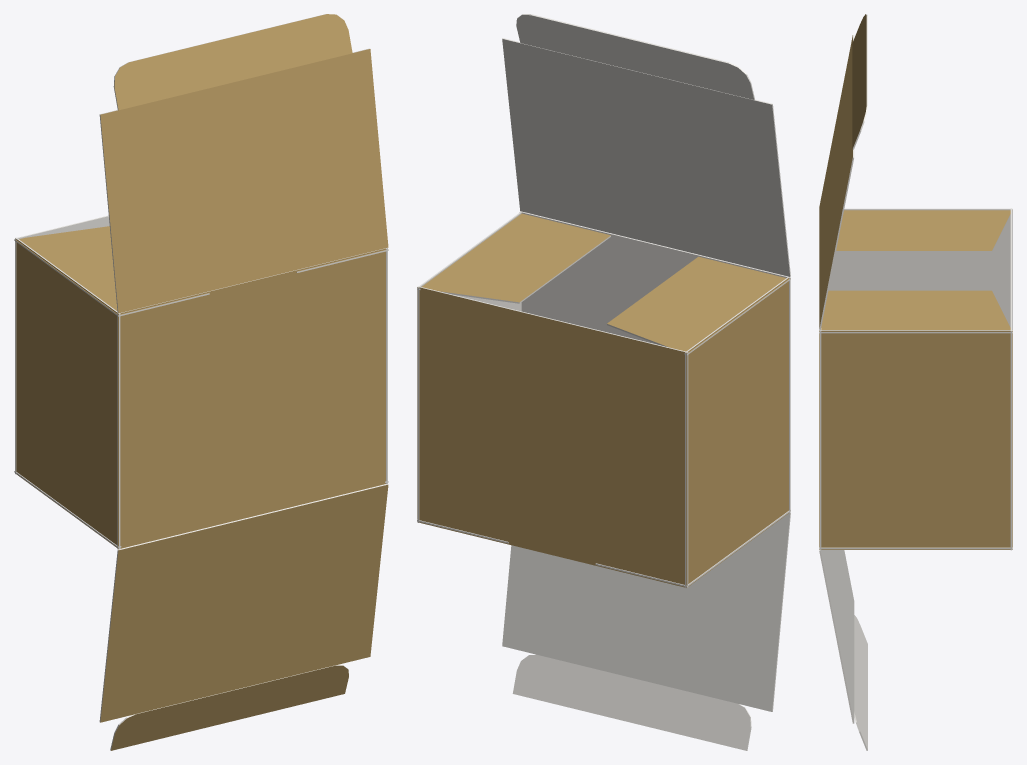
The picture shows the model from 3 angles, left to right: view 1: azimuth 30°, elevation 25°; view 2: azimuth 150°, elevation 25°; view 3: azimuth 270°, elevation 25°; orthographic projection. The views are drawn at different scales.
Parts seen in each view (by area): view 1: Packive_Box_fefco0210; view 2: Packive_Box_fefco0210; view 3: Packive_Box_fefco0210.
Boxes of the visible parts, x1,y1,x2,y2 form: Packive_Box_fefco0210: (14, 14, 388, 750); Packive_Box_fefco0210: (417, 14, 790, 750); Packive_Box_fefco0210: (819, 14, 1012, 750).
Bounding box in the file's own units: 0.3 × 0.7262 × 0.2.
Materials: 24 (12 with a texture image).
